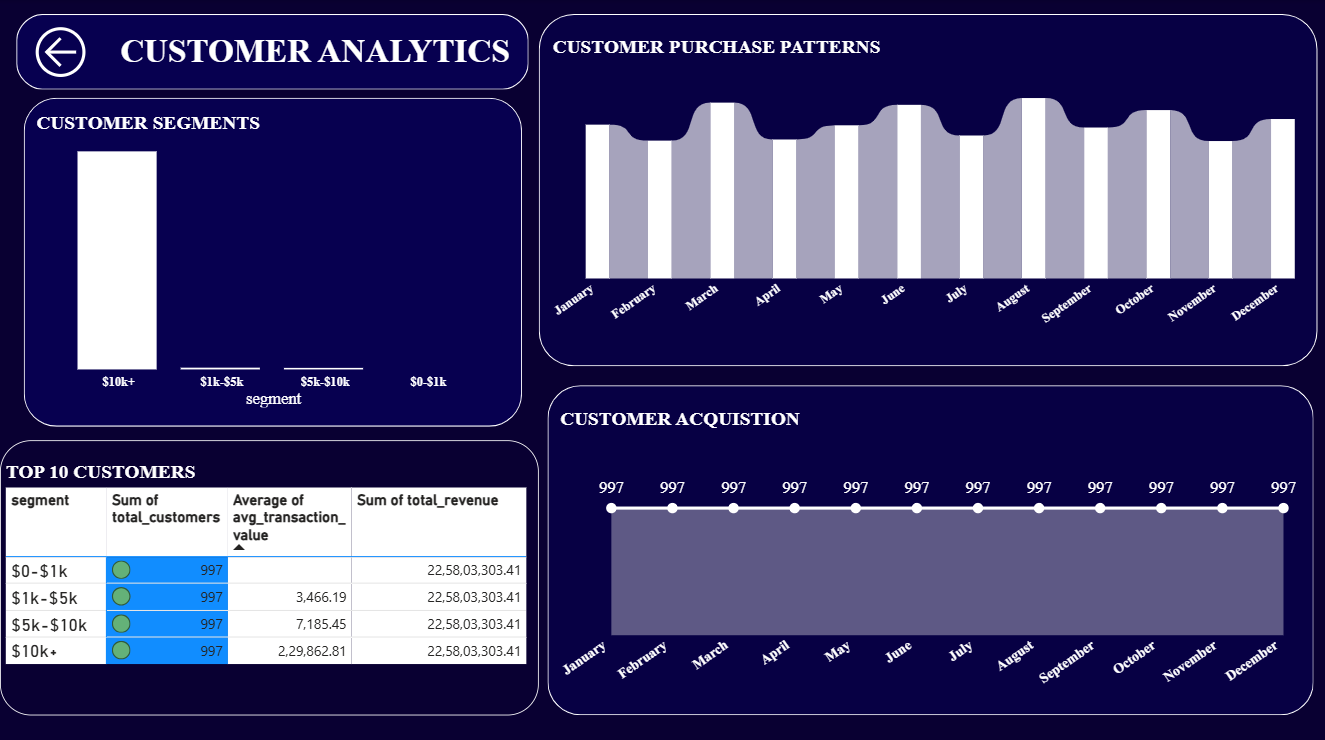

Layout of this report page (visuals, bound fields, positions):
{"tool":"powerbi","page":{"name":"Page 3","canvas":[1280,720],"ordinal":2},"visuals":[{"type":"shape","box":[22.9,95.3,480.9,317.4],"z":0,"group":"g2"},{"type":"shape","box":[528.4,372.8,739.5,318.5],"z":0,"group":"g4"},{"type":"pivotTable","title":"TOP 10 CUSTOMERS","fields":{"Rows":["query3_customer_segments.segment"],"Values":["Sum(query6_geographic_analysis.total_customers)","Avg(query3_customer_segments.avg_transaction_value)","Sum(query4_category_performance.total_revenue)"]},"box":[0,425.9,520,265.4],"z":0},{"type":"shape","box":[15.7,14.5,494.6,73.1],"z":1000,"group":"g5"},{"type":"group","id":"g1","title":"Group 1","box":[520,14.5,760.1,340.2],"z":1000},{"type":"shape","box":[520,14.5,751.6,340],"z":1000,"group":"g1"},{"type":"areaChart","title":"CUSTOMER ACQUISTION","fields":{"Category":["query2_monthly_trend.year_month.Variation.Date Hierarchy.Month"],"Y":["Count(query7_customer_lifetime_value.customer_id)"]},"box":[536.1,394.3,731.9,285.7],"z":1000,"group":"g4"},{"type":"group","id":"g2","title":"Group 3","box":[22.9,95.3,481.4,318.5],"z":2000},{"type":"clusteredColumnChart","title":"CUSTOMER SEGMENTS","fields":{"Category":["query3_customer_segments.segment"],"Y":["Sum(query3_customer_segments.customer_count)"]},"box":[30.4,108.1,468.3,290.8],"z":2000,"group":"g2"},{"type":"group","id":"g3","title":"Group 2","box":[27.3,20.5,484,67.6],"z":3000,"group":"g5"},{"type":"group","id":"g4","title":"Group 4","box":[528.4,372.8,739.5,318.5],"z":3000},{"type":"group","id":"g5","title":"Group 5","box":[15.7,14.5,494.6,73.6],"z":4000},{"type":"textbox","box":[110.9,26.6,400.4,61.4],"z":6000,"group":"g3"},{"type":"ribbonChart","title":"CUSTOMER PURCHASE PATTERNS","fields":{"Category":["query2_monthly_trend.year_month.Variation.Date Hierarchy.Month"],"Y":["Sum(query2_monthly_trend.total_revenue)"]},"box":[528.2,35,751.6,297],"z":6000,"group":"g1"},{"type":"actionButton","box":[27.3,20.5,85.5,61.4],"z":7000,"group":"g3"}]}

Visuals, with their boxes in screenshot pixels (x1, y1, x2, y2), scaled from the page's 1280x720 canvas onto the 1325x740 screenshot:
shape: <region>24, 98, 522, 424</region>
shape: <region>547, 383, 1312, 711</region>
"TOP 10 CUSTOMERS" pivotTable: <region>0, 438, 538, 711</region>
shape: <region>16, 15, 528, 90</region>
"Group 1" group: <region>538, 15, 1324, 365</region>
shape: <region>538, 15, 1316, 364</region>
"CUSTOMER ACQUISTION" areaChart: <region>555, 405, 1313, 699</region>
"Group 3" group: <region>24, 98, 522, 425</region>
"CUSTOMER SEGMENTS" clusteredColumnChart: <region>31, 111, 516, 410</region>
"Group 2" group: <region>28, 21, 529, 91</region>
"Group 4" group: <region>547, 383, 1312, 711</region>
"Group 5" group: <region>16, 15, 528, 91</region>
textbox: <region>115, 27, 529, 90</region>
"CUSTOMER PURCHASE PATTERNS" ribbonChart: <region>547, 36, 1324, 341</region>
actionButton: <region>28, 21, 117, 84</region>
